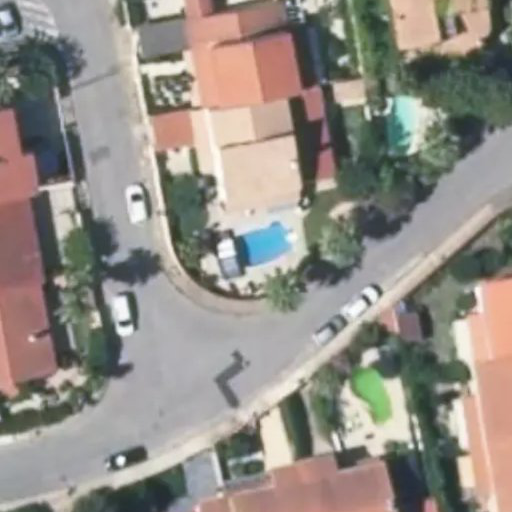pool: (212, 242, 300, 249)
